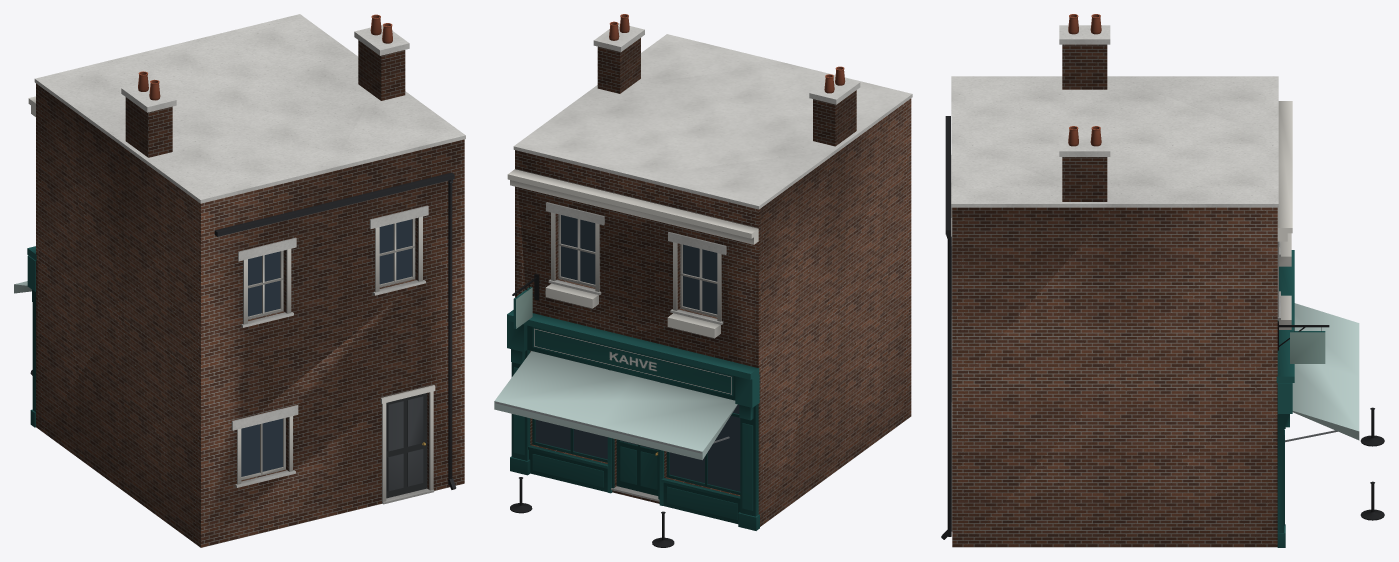
Rendered from cafe-front_lod0.glb.
The picture shows the model from 3 angles, left to right: view 1: azimuth 30°, elevation 25°; view 2: azimuth 150°, elevation 25°; view 3: azimuth 270°, elevation 25°; orthographic projection. The views are drawn at different scales.
Visible parts, largest first — view 1: cafe-front; view 2: cafe-front; view 3: cafe-front.
Part boxes in pixels (x1=…): cafe-front: x1=14, y1=14, x2=465, y2=547; cafe-front: x1=494, y1=14, x2=912, y2=547; cafe-front: x1=941, y1=14, x2=1384, y2=547.
Bounding box in the file's own units: 6.06 × 9.08 × 8.86.
Materials: 8 (6 with a texture image).
